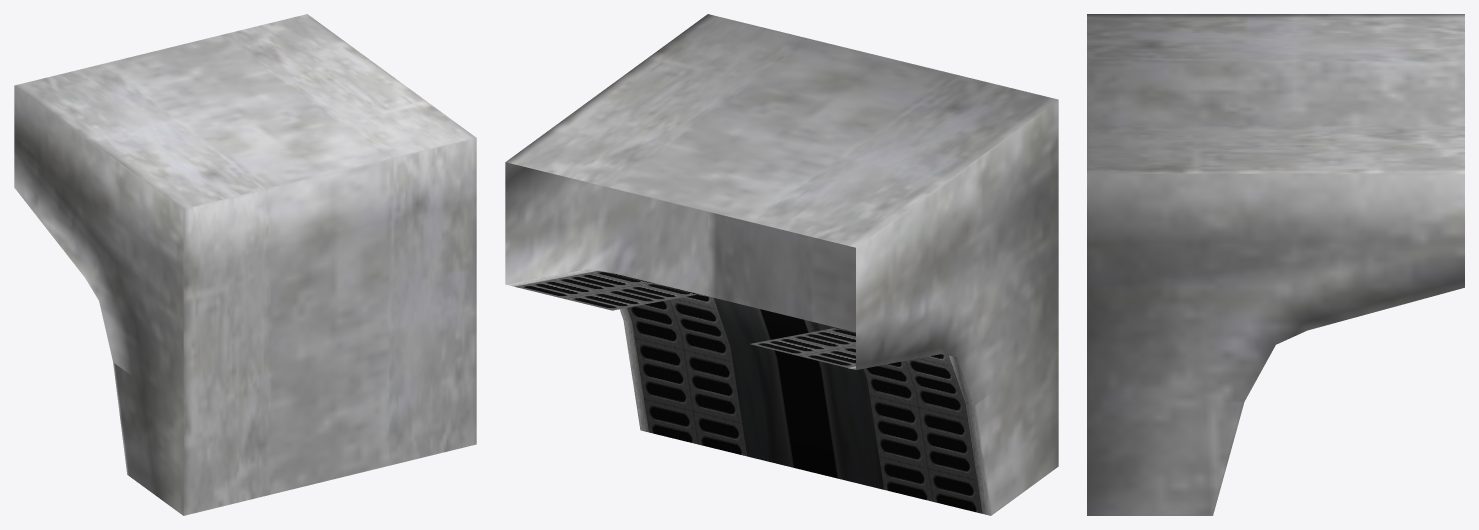
Rendered from tiles_door_arch_2.glb.
3 renders of one model, left to right at view 1: azimuth 30°, elevation 25°; view 2: azimuth 150°, elevation 25°; view 3: azimuth 270°, elevation 25°, orthographic. The views are drawn at different scales.
Visible parts, largest first — view 1: Cube.006; view 2: Cube.006; view 3: Cube.006.
Part boxes in pixels (x1,y1,x2,y2): Cube.006: (14,14,476,515); Cube.006: (505,14,1058,515); Cube.006: (1087,14,1464,515).
Size of the model in its own units: 2 by 2 by 2.
Materials: 3 (3 with a texture image).
